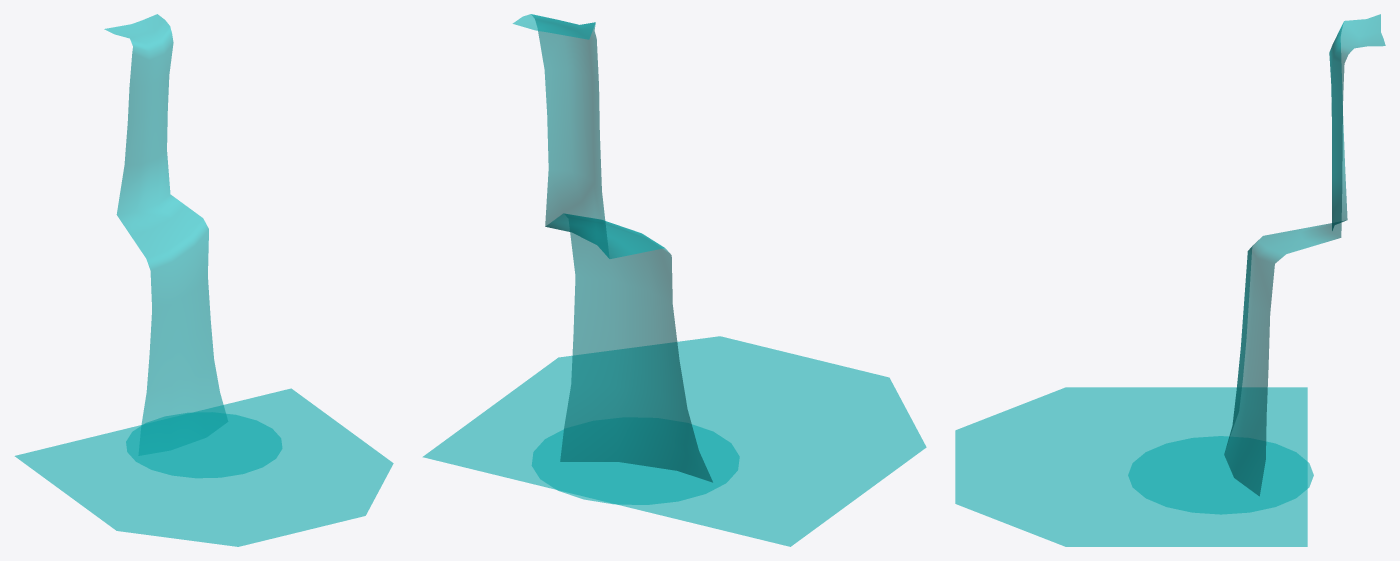
File: Moonset_FBX_Fontaine_waterfall.fbx
3 renders of one model, left to right at view 1: azimuth 30°, elevation 25°; view 2: azimuth 150°, elevation 25°; view 3: azimuth 270°, elevation 25°, orthographic. The views are drawn at different scales.
Parts seen in each view (by area): view 1: waterfall3, waterfall1, waterfall2; view 2: waterfall3, waterfall1, waterfall2; view 3: waterfall3, waterfall1, waterfall2.
Part boxes in pixels (x1=…): waterfall3: x1=15, y1=388, x2=393, y2=546; waterfall1: x1=104, y1=14, x2=228, y2=455; waterfall2: x1=126, y1=412, x2=282, y2=478; waterfall3: x1=423, y1=336, x2=926, y2=546; waterfall1: x1=513, y1=14, x2=712, y2=482; waterfall2: x1=531, y1=417, x2=739, y2=504; waterfall3: x1=955, y1=387, x2=1307, y2=546; waterfall1: x1=1224, y1=14, x2=1385, y2=496; waterfall2: x1=1128, y1=436, x2=1313, y2=514.
Bounding box in the file's own units: 1.93 × 2.49 × 2.19.
